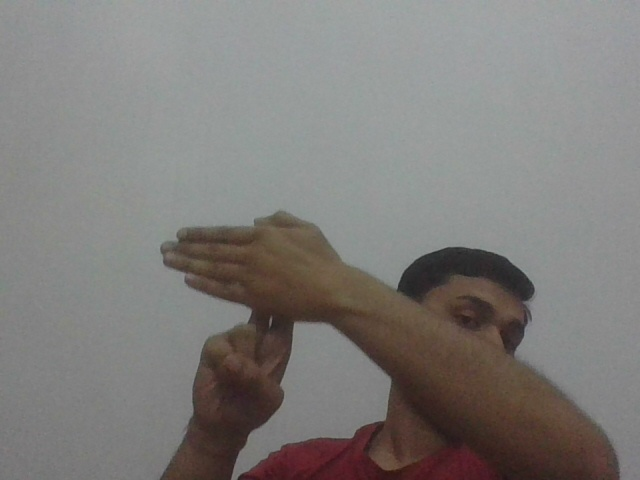N: (158, 208, 333, 343)
